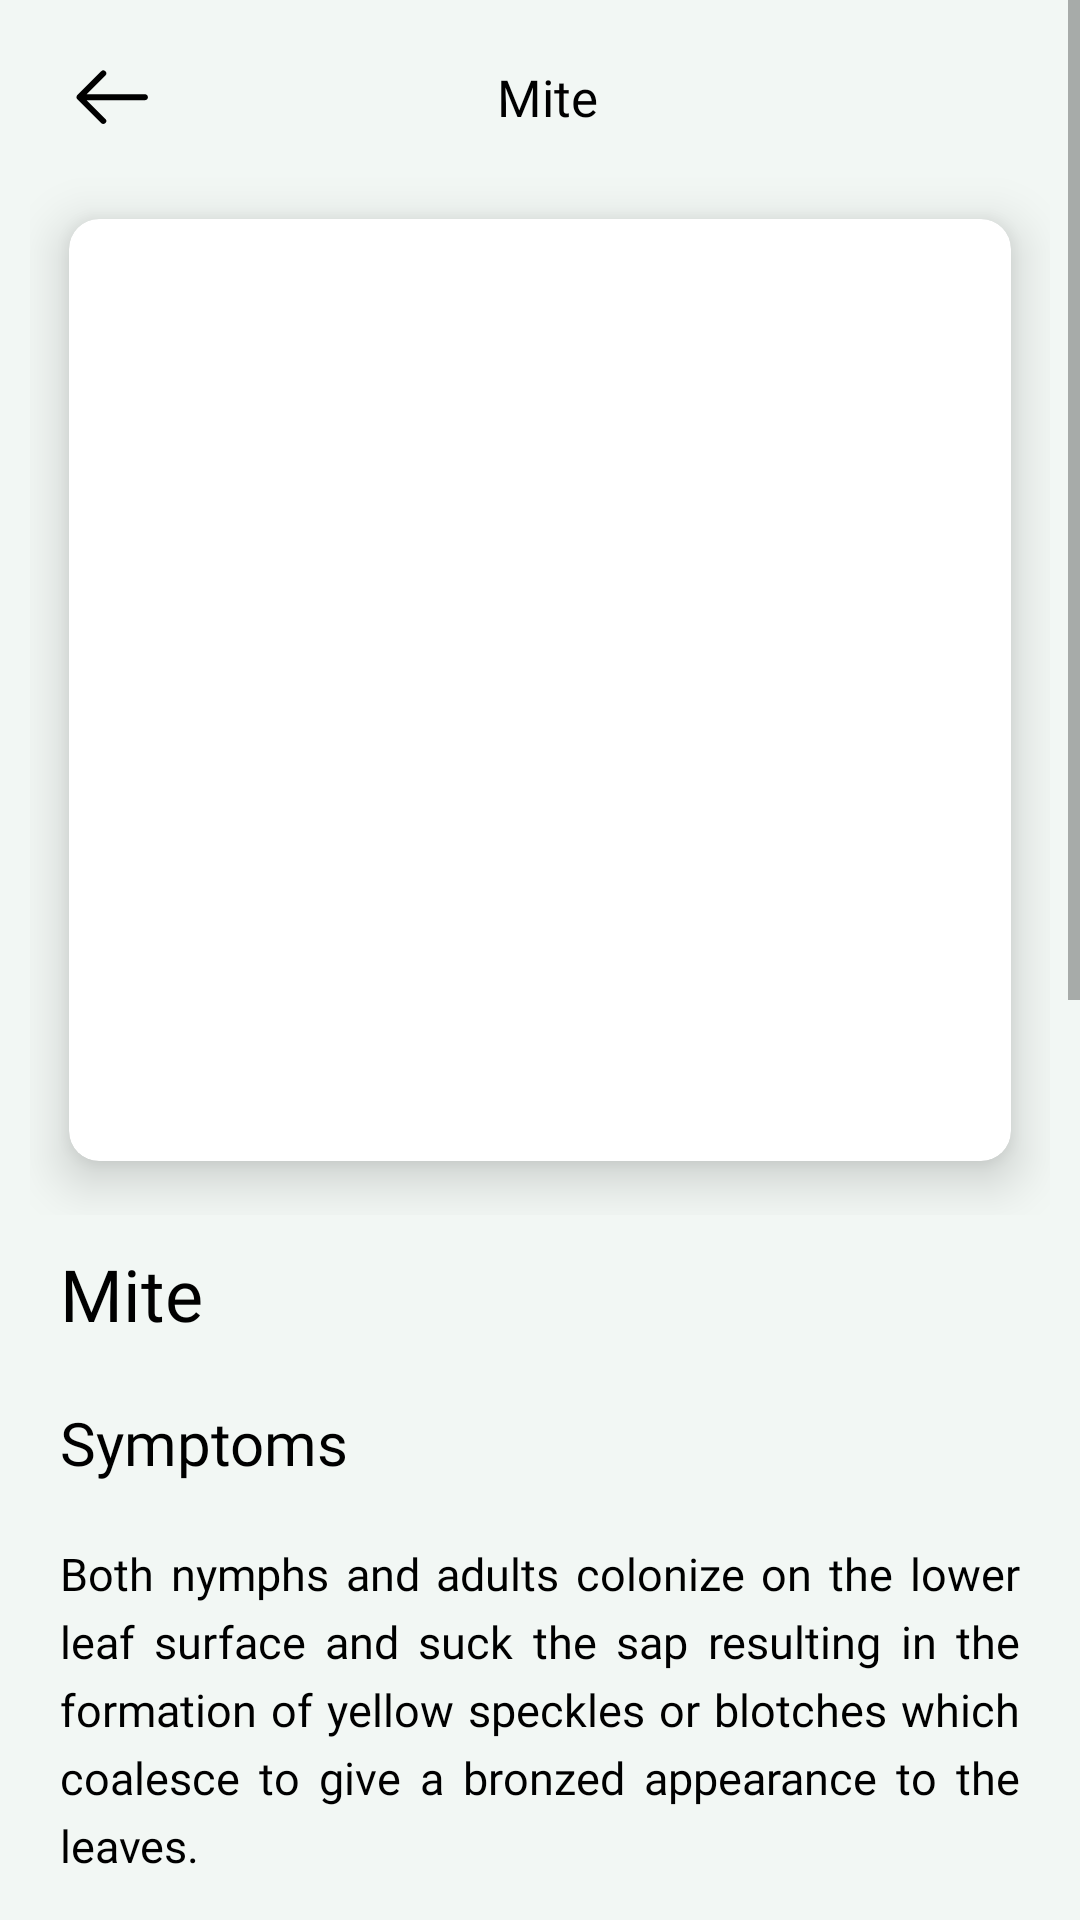

Where to tap for icons on this 1080px x 1920px app screen, as point (x, y):
back: point (112, 97)
